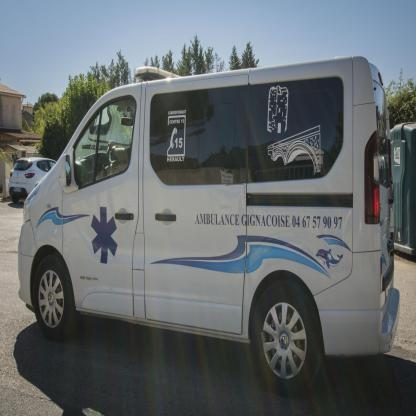Ambulance - v1 Ambulance last generate: (5, 49, 408, 345)
